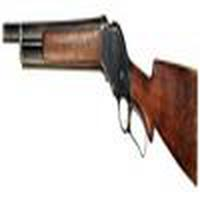gun: (3, 14, 199, 187)
